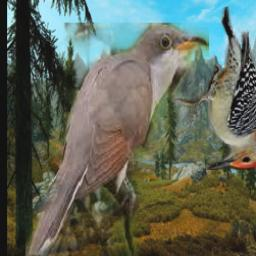Cuckoo: (25, 23, 209, 256)
Woodpecker: (170, 7, 256, 170)
